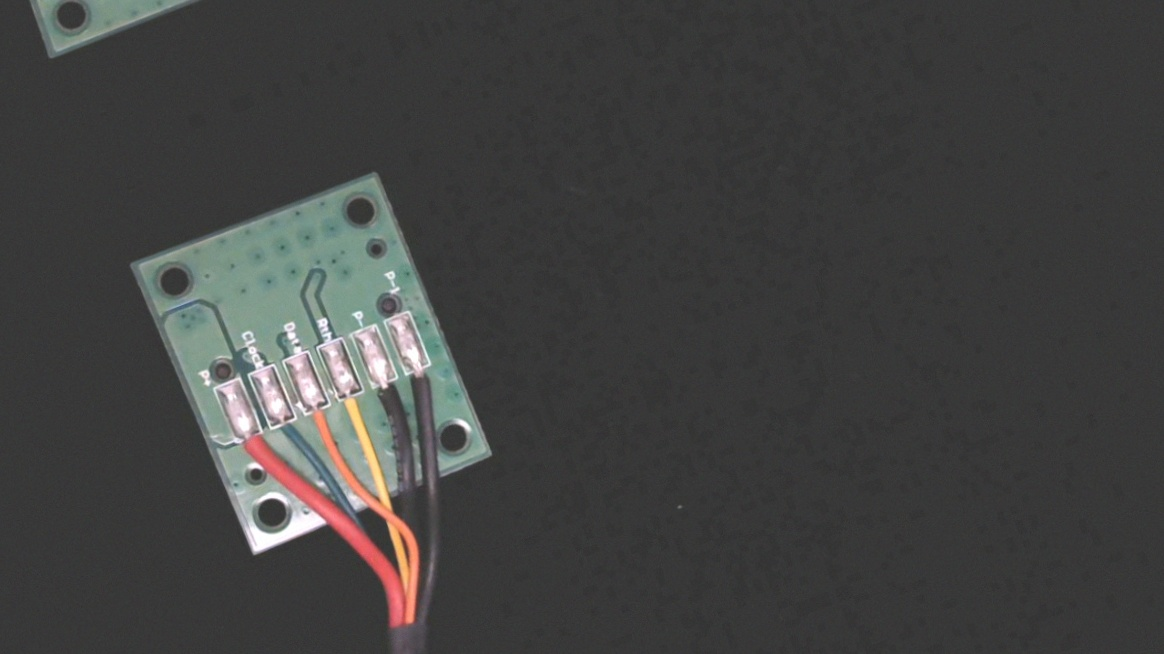Black: (364, 360, 418, 435)
Black1: (400, 346, 451, 415)
Green: (262, 399, 315, 471)
Orange: (297, 387, 349, 460)
Red: (227, 414, 280, 485)
Yellow: (330, 374, 385, 449)
